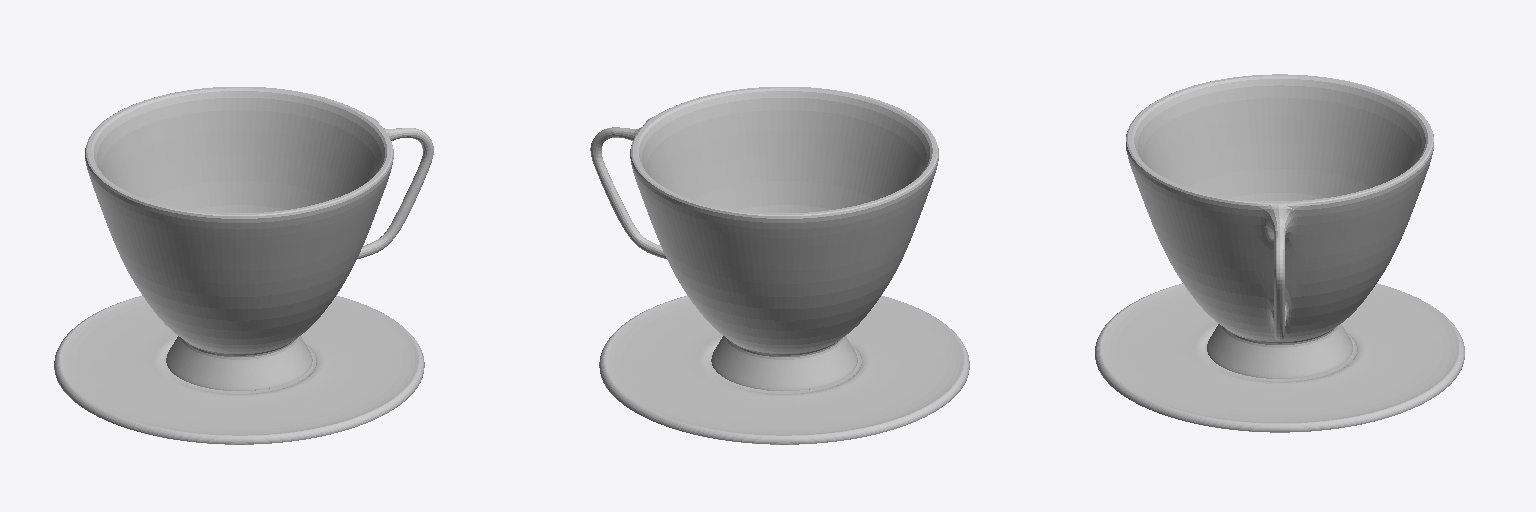
The model's file is teacup .obj.
The picture shows the model from 3 angles: view 1: azimuth 30°, elevation 25°; view 2: azimuth 150°, elevation 25°; view 3: azimuth 270°, elevation 25°; orthographic projection.
Parts seen in each view (by area): view 1: cup, plate; view 2: cup, plate; view 3: cup, plate.
Part boxes in pixels (x1,y1,x2,y2): cup: (85, 87, 433, 390); plate: (54, 295, 424, 444); cup: (590, 87, 938, 390); plate: (599, 295, 969, 444); cup: (1126, 74, 1433, 378); plate: (1095, 283, 1464, 432).
Bounding box in the file's own units: 7.09 × 4.18 × 6.43.